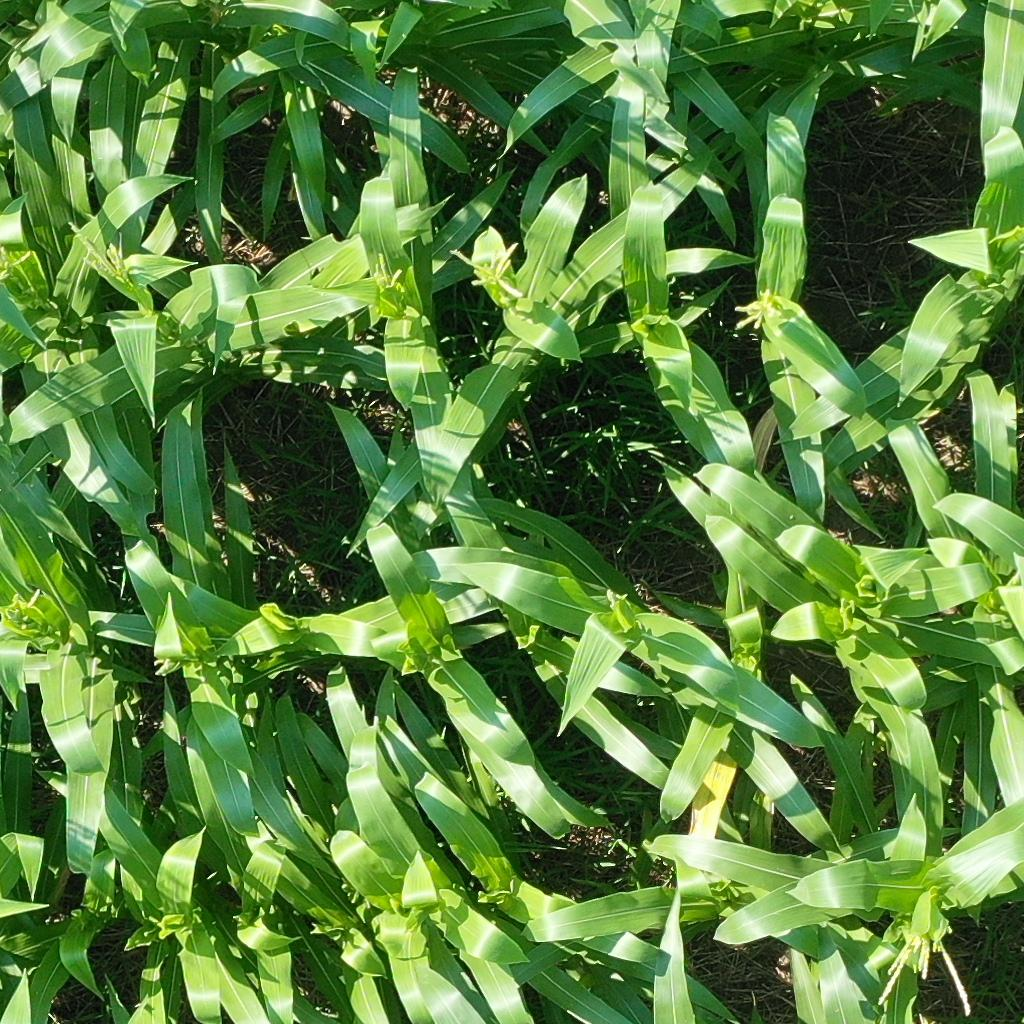Tassel: (865, 916, 972, 1015), (446, 239, 522, 302), (65, 219, 135, 285), (735, 284, 781, 333), (1, 586, 40, 631), (365, 253, 406, 295), (1, 244, 35, 285), (147, 653, 179, 677)
